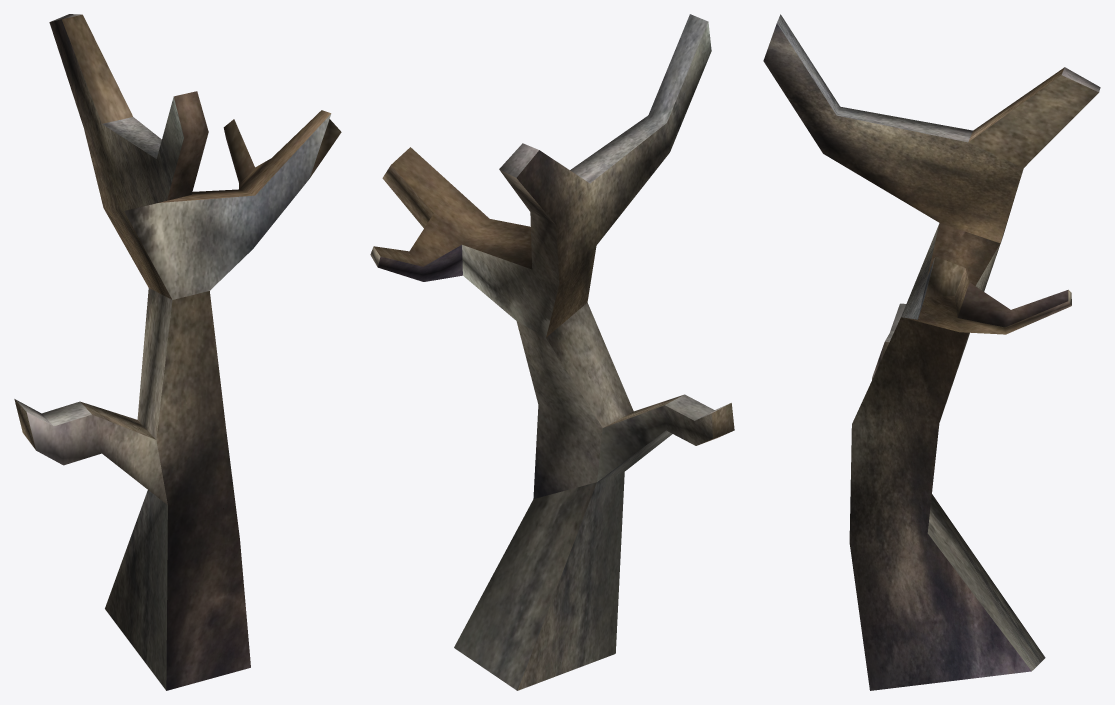
File: arvore_semfolhagem-2.fbx
3 renders of one model, left to right at view 1: azimuth 30°, elevation 25°; view 2: azimuth 150°, elevation 25°; view 3: azimuth 270°, elevation 25°, orthographic. The views are drawn at different scales.
Visible parts, largest first — view 1: arvore4.046; view 2: arvore4.046; view 3: arvore4.046.
Boxes of the visible parts, bbox=[...] form: arvore4.046: bbox=[14, 14, 341, 690]; arvore4.046: bbox=[370, 14, 734, 690]; arvore4.046: bbox=[763, 14, 1100, 690].
Size of the model in its own units: 2.14 by 3.84 by 1.87.
